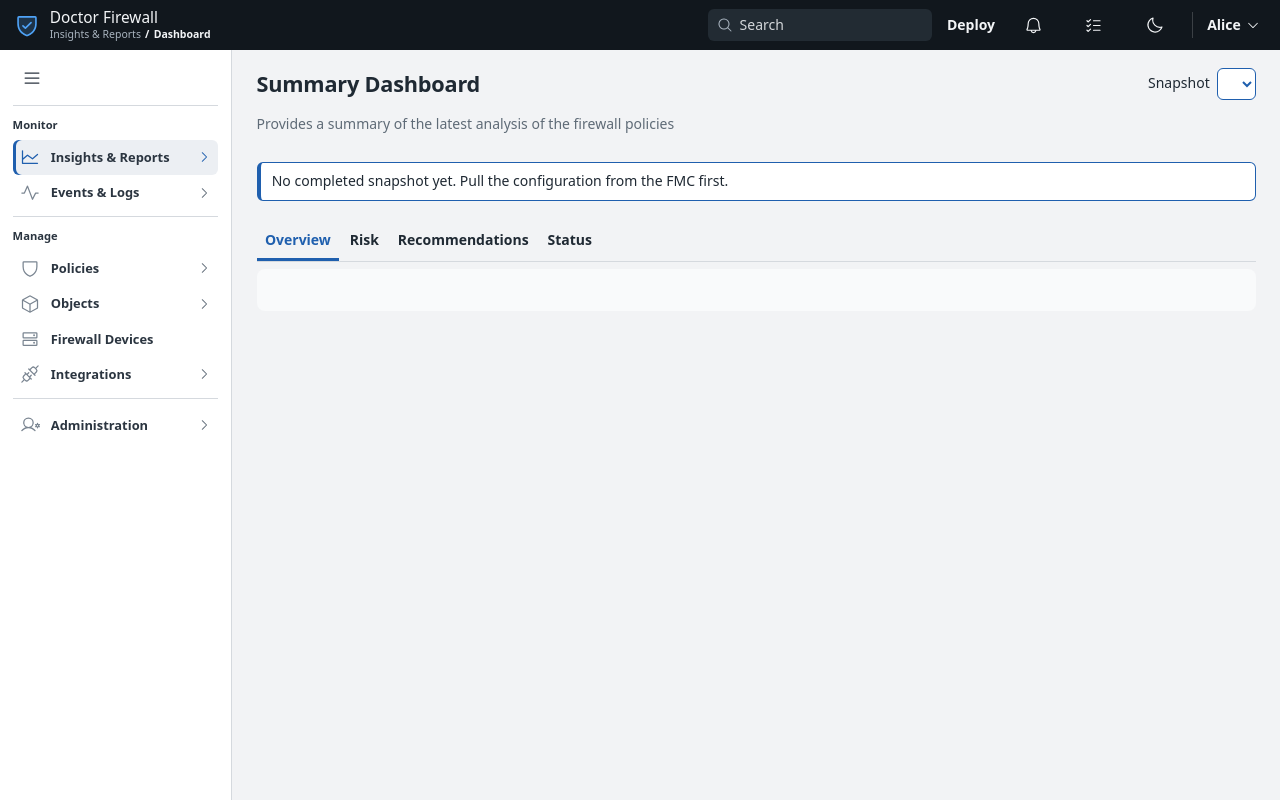
it: App › signs out
// Sign-out lives in the user menu of the top bar, as in the FMC.
Click the button "Alice" at (1234, 25), box x1=1202 y1=9 x2=1266 y2=41
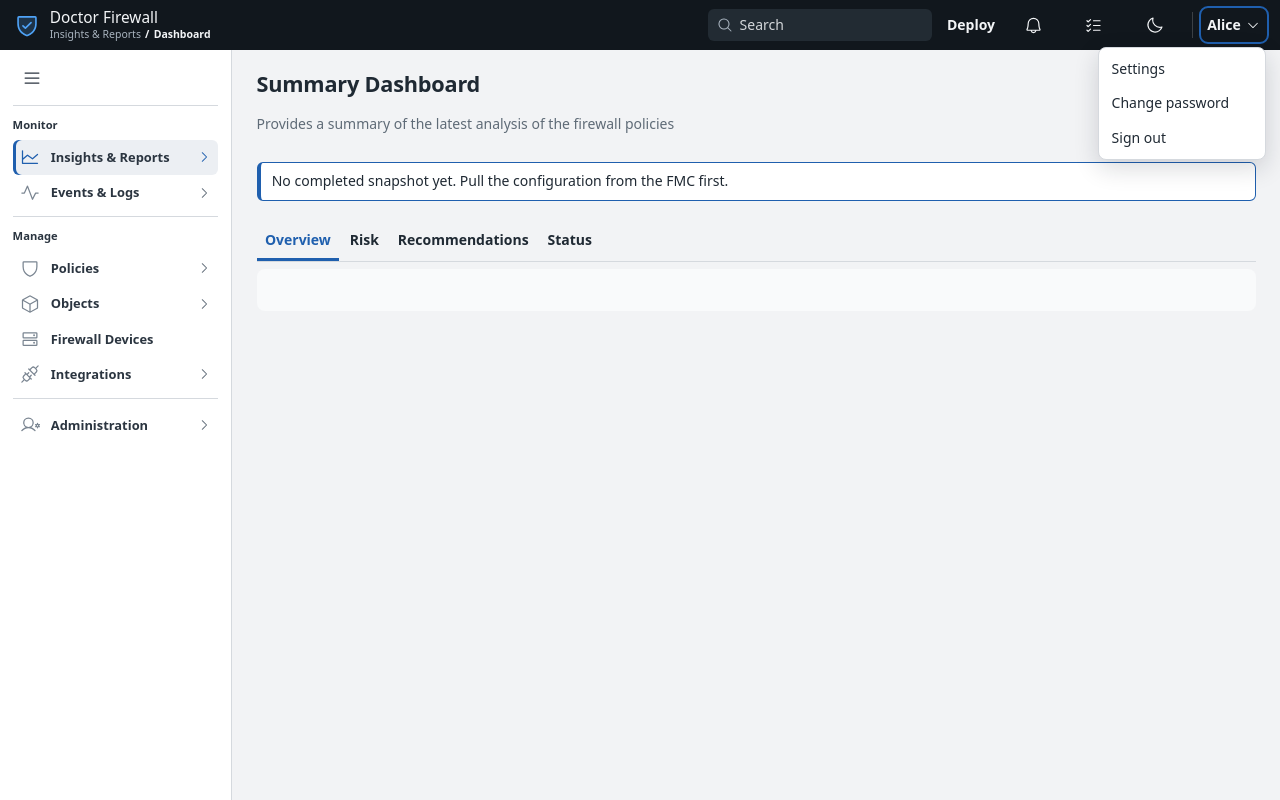
Click the menu item "Sign out" at (1182, 138), box x1=1099 y1=121 x2=1265 y2=155
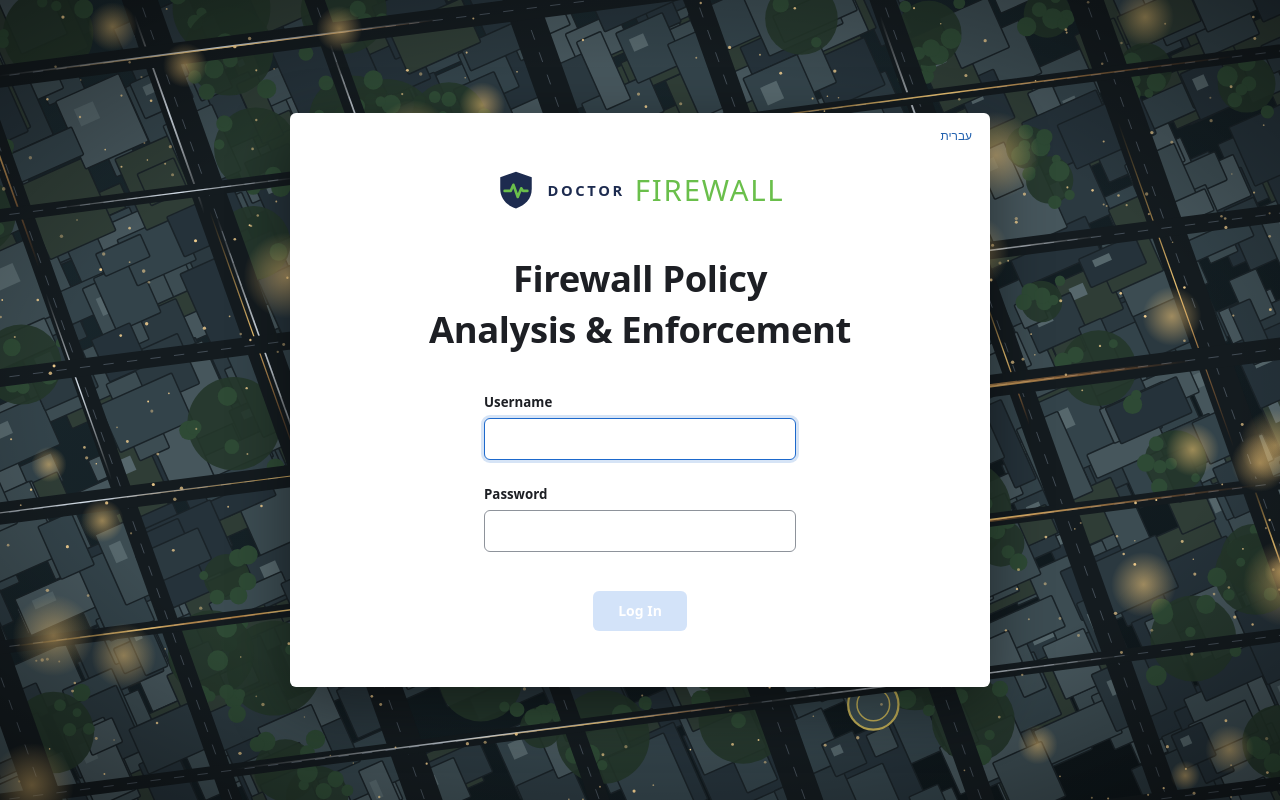
Result: the button "Log In" is shown at x1=593 y1=591 x2=687 y2=631
